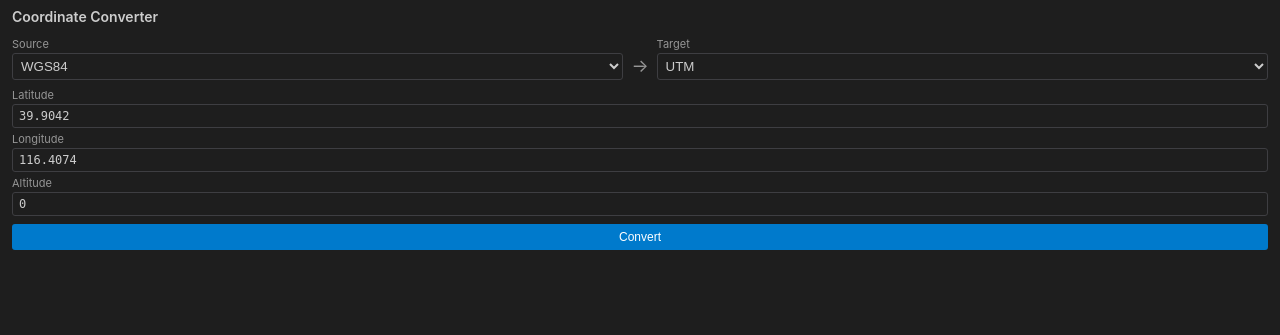
Test: GisToolsPanel › WGS84 → ECEF conversion shows X, Y, Z results
The image size is (1280, 335).
Select "ECEF" in the dropdown labelled "Target" at (962, 66), box x1=657 y1=53 x2=1268 y2=80
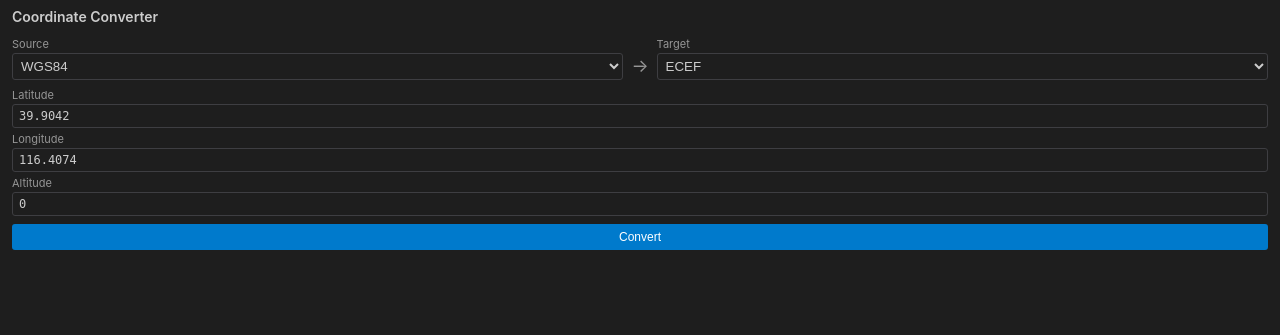
Click the button "Convert" at (640, 237), box x1=12 y1=224 x2=1268 y2=250
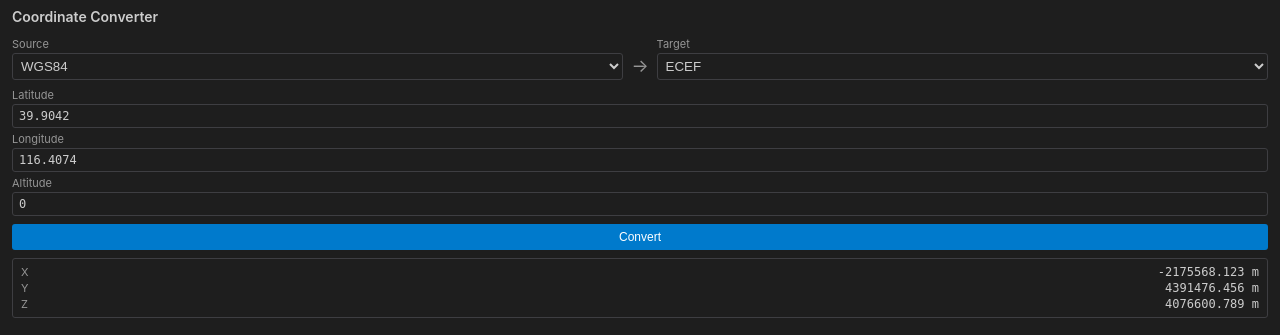
Check: the text "X" is shown, box x1=21 y1=265 x2=28 y2=279
Check: the text "Y" is shown, box x1=21 y1=281 x2=28 y2=295
Check: the text "Z" is shown, box x1=21 y1=297 x2=28 y2=311
